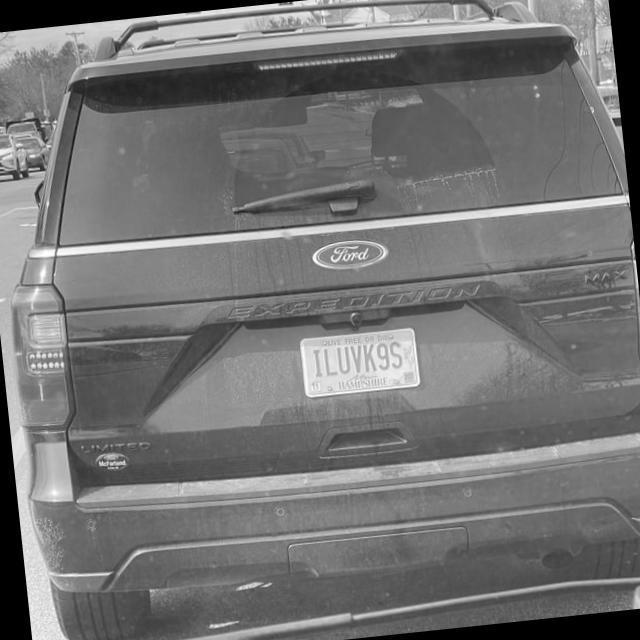LicensePlate: (299, 327, 421, 397)
